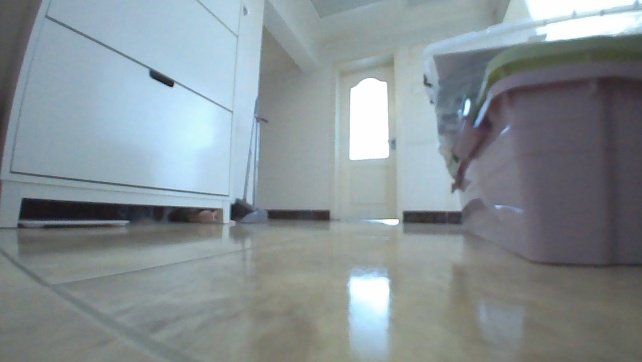cabinet: (0, 0, 248, 233)
weight_scale: (15, 214, 132, 231)
